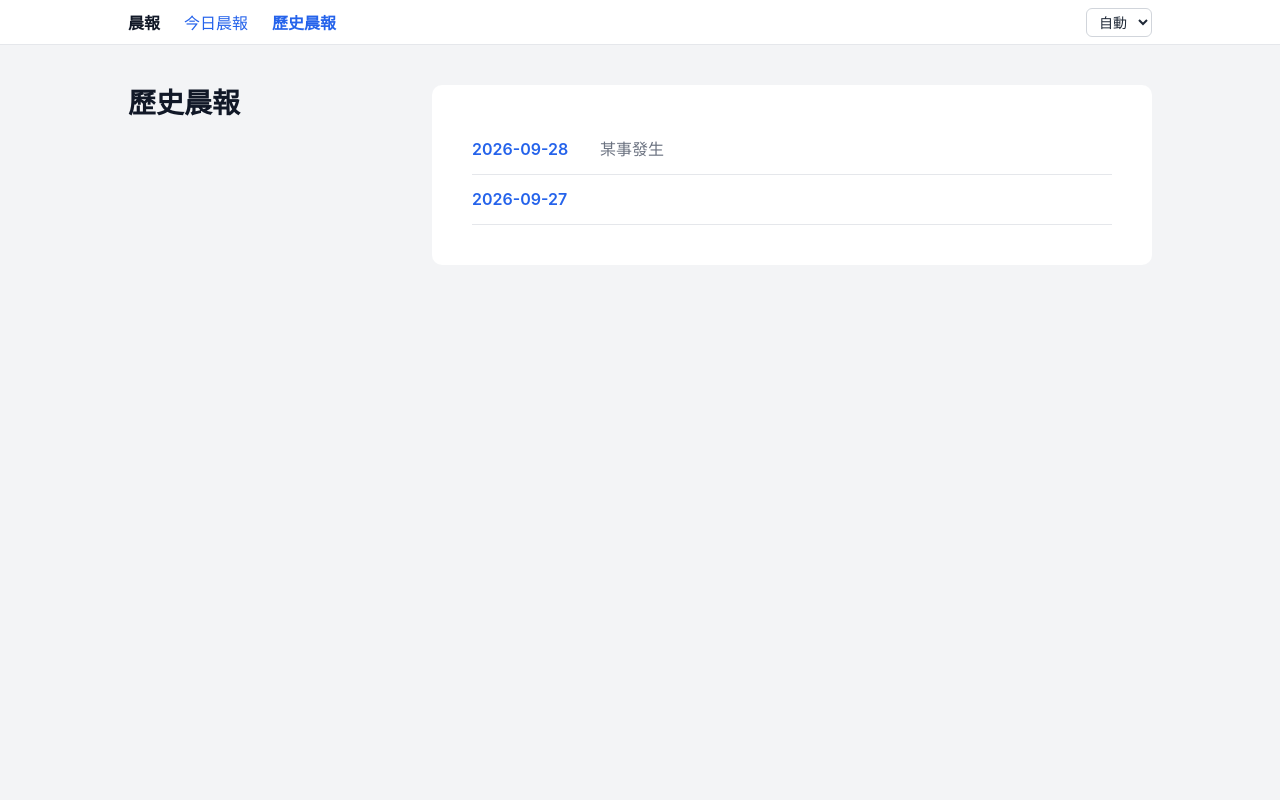
Test case: 路由 › /reports 列表：連到單日；沒有晨報時的提示
Click the link "2026-09-28" at [520, 149], box top-left (472, 135), bottom-right (568, 164)
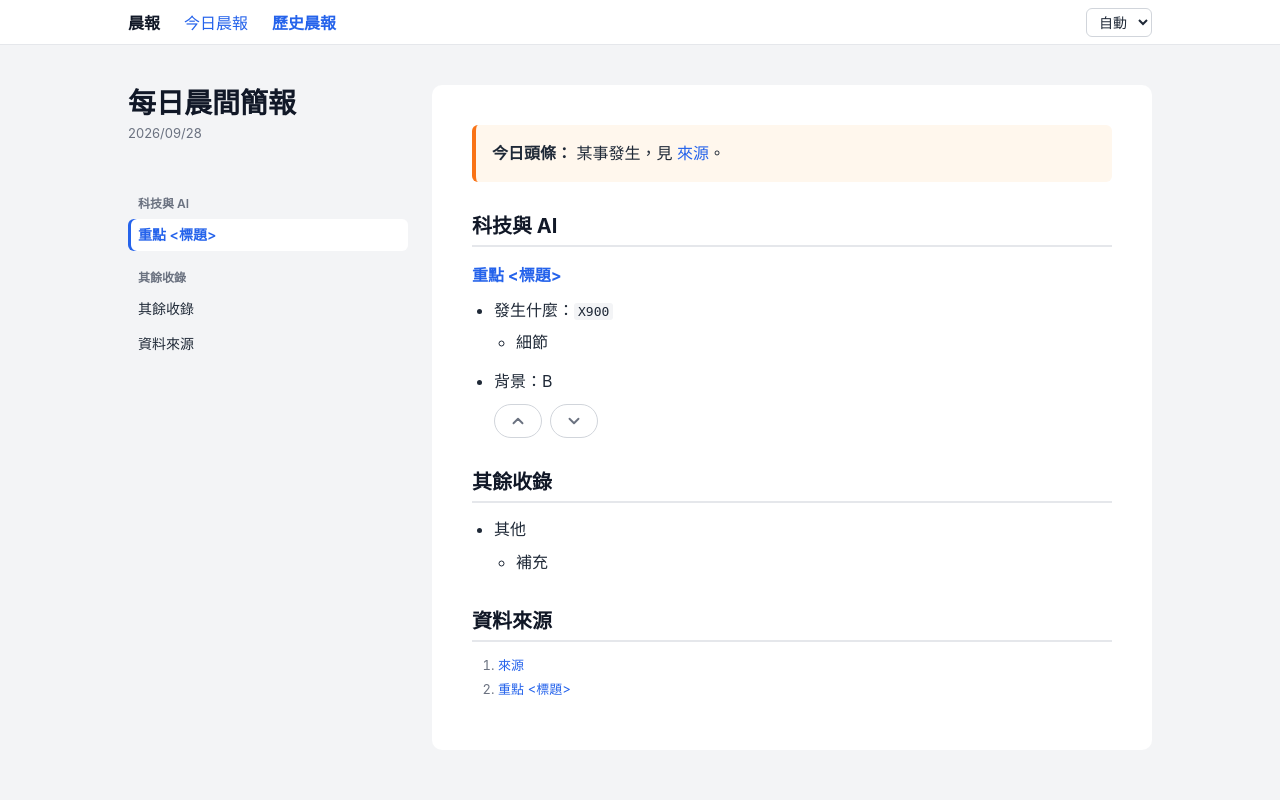
Now the heading "每日晨間簡報" is shown, box top-left (128, 86), bottom-right (296, 120)
